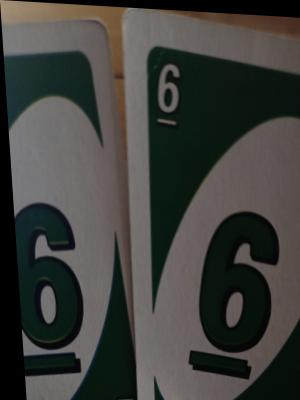green: (138, 36, 300, 397), (11, 56, 117, 374)
num_6: (145, 50, 188, 138)
